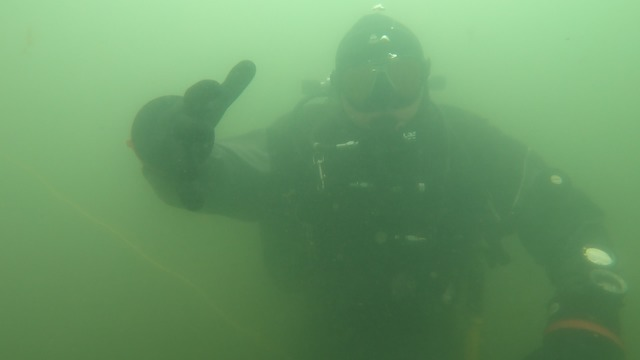Diver: (114, 14, 628, 357)
Hand: (141, 54, 264, 213)
Head: (322, 15, 448, 163)
